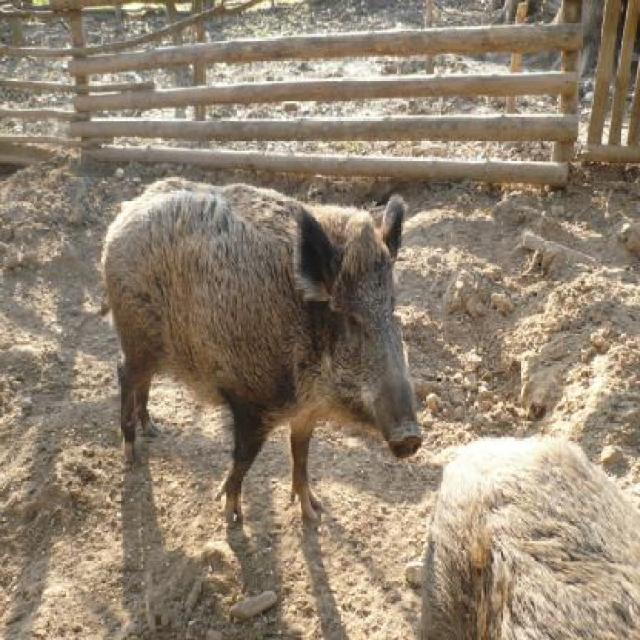pig: (97, 174, 424, 531), (411, 432, 639, 638)
